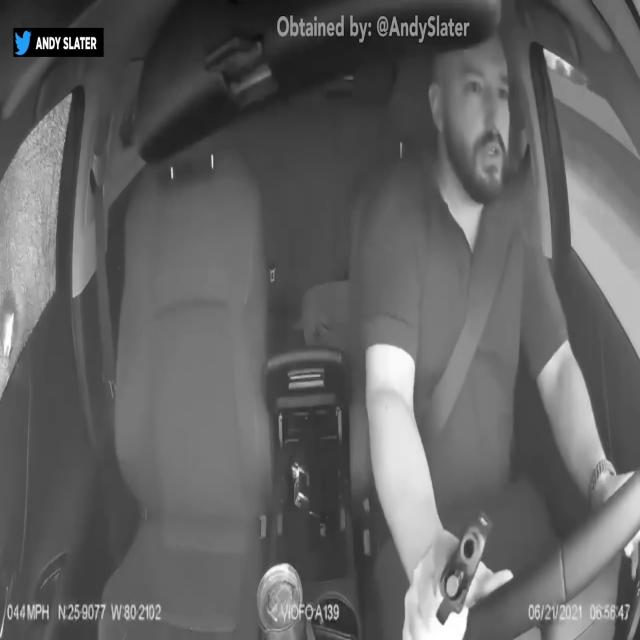senjata_api: (435, 504, 493, 627)
